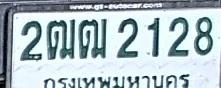1: (146, 17, 160, 57)
2: (116, 17, 138, 58), (20, 20, 42, 61), (167, 17, 189, 56)
8: (193, 16, 213, 55)
A18: (46, 18, 75, 60), (78, 18, 107, 59)
BKK: (43, 70, 192, 88)
